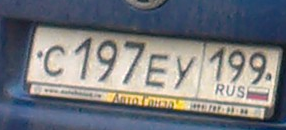character: (119, 38, 147, 90), (94, 35, 119, 85), (171, 51, 198, 95), (71, 34, 94, 85), (41, 43, 69, 79), (145, 51, 170, 91), (207, 46, 228, 85), (246, 48, 267, 87), (227, 48, 247, 85)
